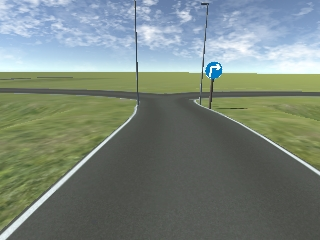right: (205, 62, 222, 80)
